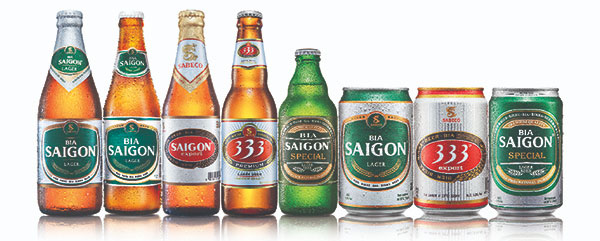333: (432, 143, 468, 164), (233, 139, 265, 160)
biasaigon: (344, 132, 407, 159), (498, 128, 554, 151), (45, 138, 97, 158), (109, 135, 156, 156), (286, 133, 330, 153), (172, 142, 212, 152)
